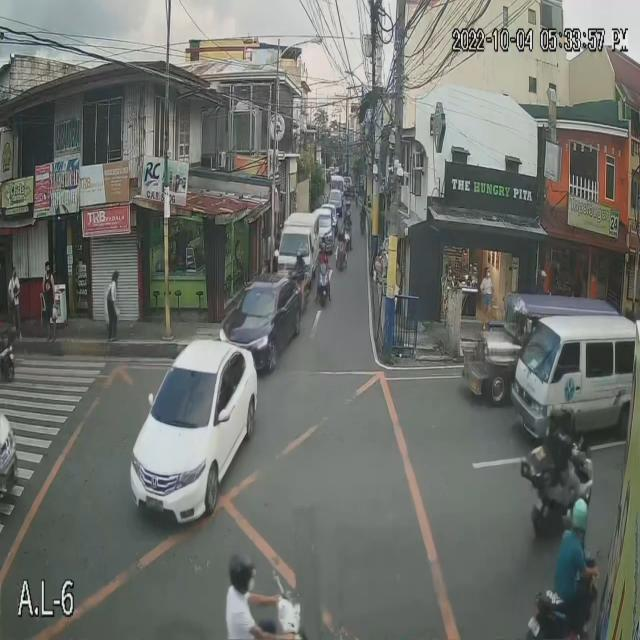Full-Faced: (227, 554, 261, 603)
Invalid: (569, 491, 590, 532)
